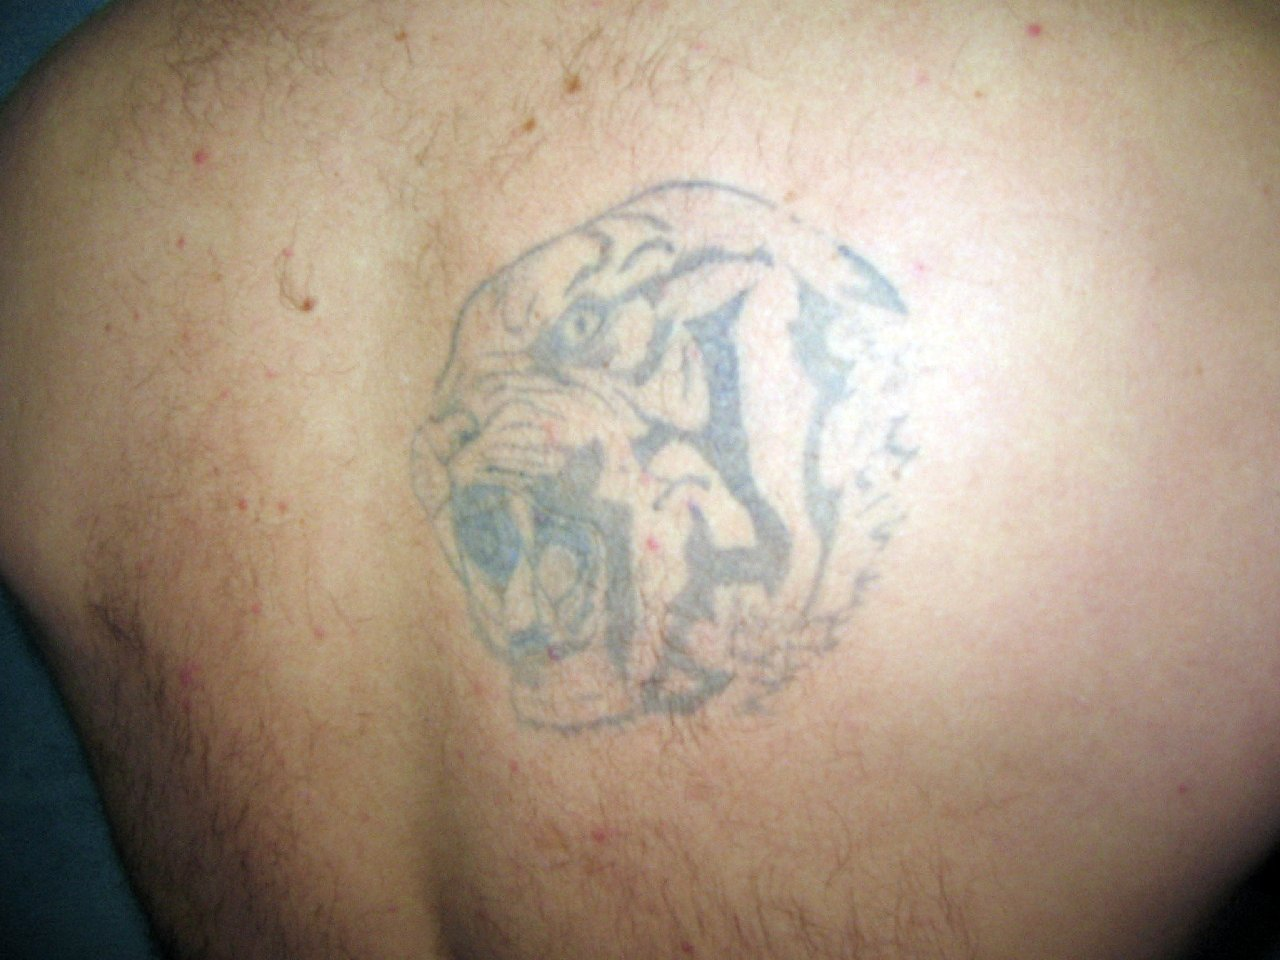tatu5_tigr: (191, 105, 1035, 772)
